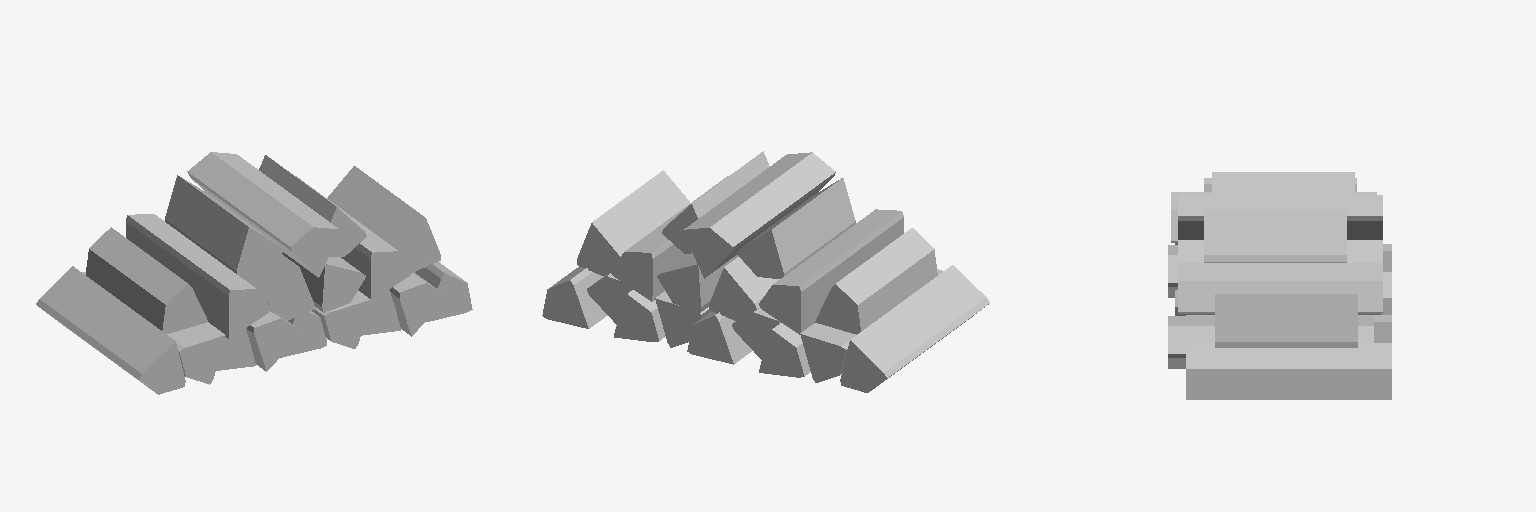
The model's file is SM_Prop_Wood_Stack_01.obj.
The picture shows the model from 3 angles: view 1: azimuth 30°, elevation 25°; view 2: azimuth 150°, elevation 25°; view 3: azimuth 270°, elevation 25°; orthographic projection.
Bounding box in the file's own units: 191 × 71.75 × 109.